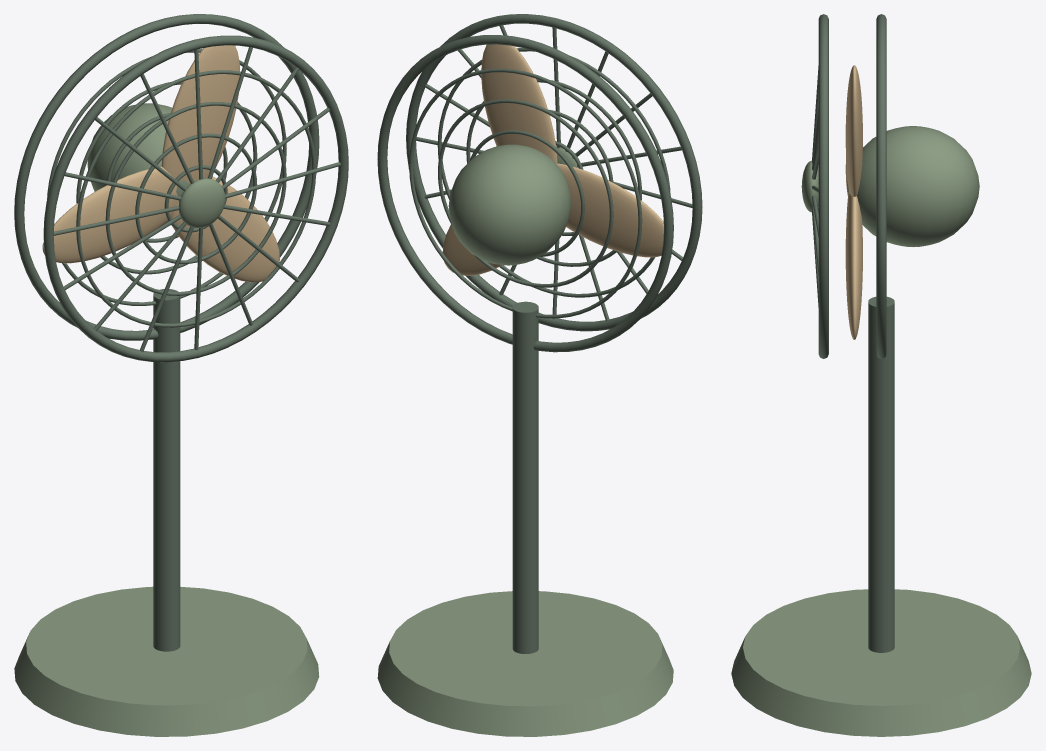
The model's file is pedestal-fan.glb.
The picture shows the model from 3 angles, left to right: view 1: azimuth 30°, elevation 25°; view 2: azimuth 150°, elevation 25°; view 3: azimuth 270°, elevation 25°; orthographic projection. The views are drawn at different scales.
Visible parts, largest first — view 1: Weighted base, Safety cage rim (×2), Blade (×3), Cage ring (×6), Stand, Cage spoke (×12), Motor, Centre badge; view 2: Weighted base, Safety cage rim (×2), Blade (×3), Motor, Cage ring (×5), Stand; view 3: Weighted base, Motor, Stand, Safety cage rim (×2), Blade (×2), Centre badge.
Part boxes in pixels (x1=…): Weighted base: x1=14, y1=586, x2=319, y2=736; Safety cage rim (×2): x1=14, y1=14, x2=348, y2=362; Blade (×3): x1=42, y1=45, x2=279, y2=282; Cage ring (×6): x1=47, y1=49, x2=315, y2=327; Stand: x1=153, y1=289, x2=180, y2=651; Cage spoke (×12): x1=53, y1=47, x2=340, y2=352; Motor: x1=87, y1=103, x2=190, y2=225; Centre badge: x1=178, y1=178, x2=225, y2=227; Weighted base: x1=377, y1=591, x2=673, y2=736; Safety cage rim (×2): x1=377, y1=14, x2=702, y2=352; Blade (×3): x1=442, y1=44, x2=663, y2=275; Motor: x1=448, y1=144, x2=571, y2=265; Cage ring (×5): x1=409, y1=48, x2=670, y2=318; Stand: x1=512, y1=301, x2=538, y2=653; Weighted base: x1=731, y1=589, x2=1031, y2=736; Motor: x1=847, y1=126, x2=979, y2=247; Stand: x1=868, y1=296, x2=894, y2=652; Safety cage rim (×2): x1=818, y1=14, x2=886, y2=358; Blade (×2): x1=845, y1=65, x2=862, y2=339; Centre badge: x1=801, y1=160, x2=818, y2=212.
Bounding box in the file's own units: 0.598 × 1.23 × 0.52.
